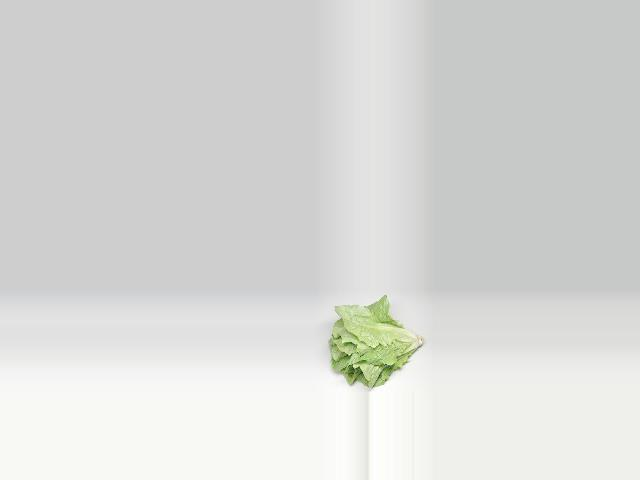lettuce: (324, 297, 431, 393)
